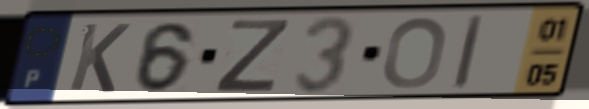3: (291, 11, 361, 98)
6: (135, 19, 202, 95)
I: (450, 12, 488, 92)
K: (65, 21, 134, 96)
O: (380, 14, 451, 91)
Z: (210, 17, 294, 94)
